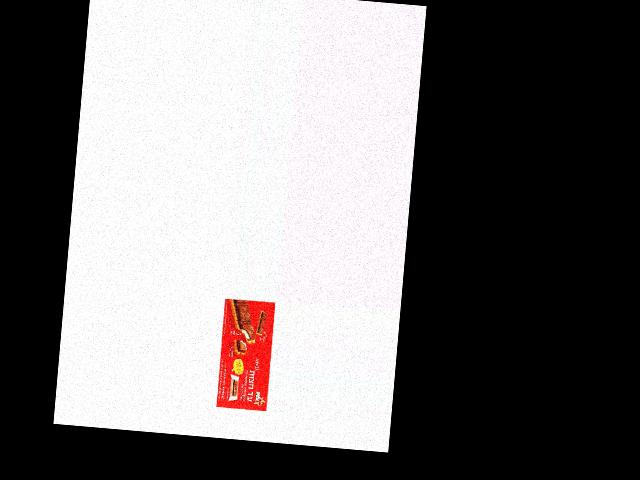chocolate: (215, 297, 276, 413)
